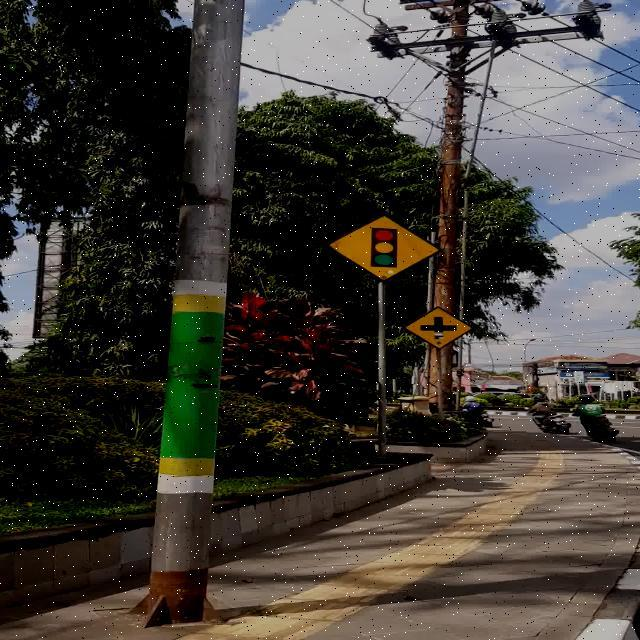Lampu Lalu Lintas: (326, 214, 439, 281)
